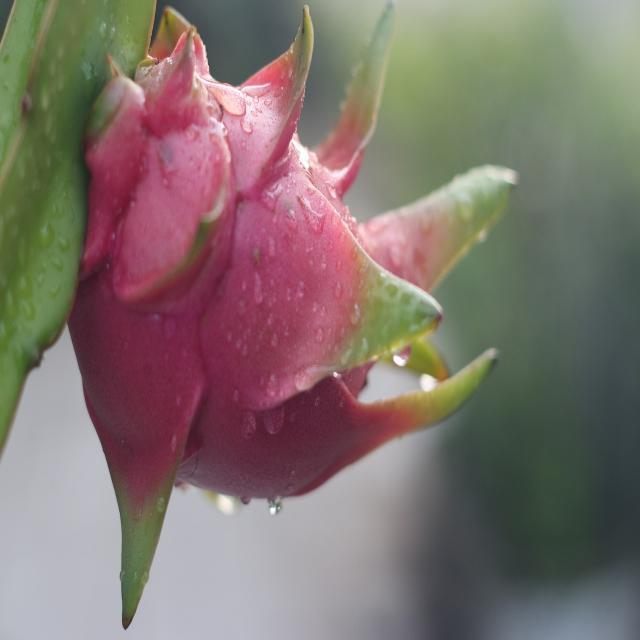dragon-fruit: (65, 74, 379, 501)
